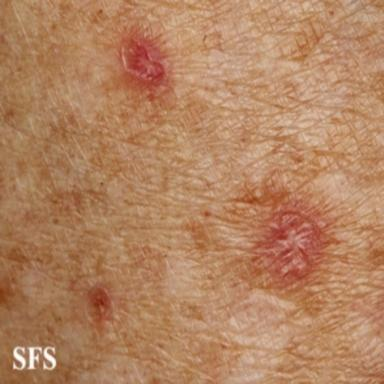Porokeratosis: (256, 200, 323, 285), (119, 29, 170, 91), (89, 286, 113, 321)
